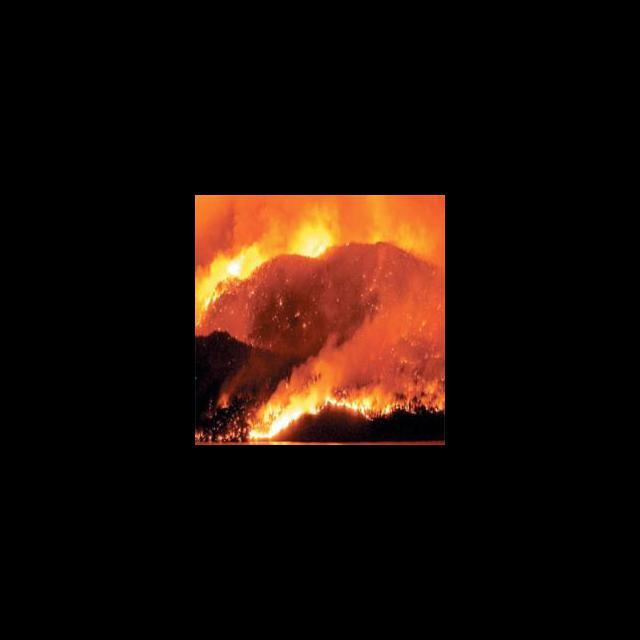Fire: (247, 389, 399, 441), (195, 240, 271, 328), (288, 211, 345, 262)
